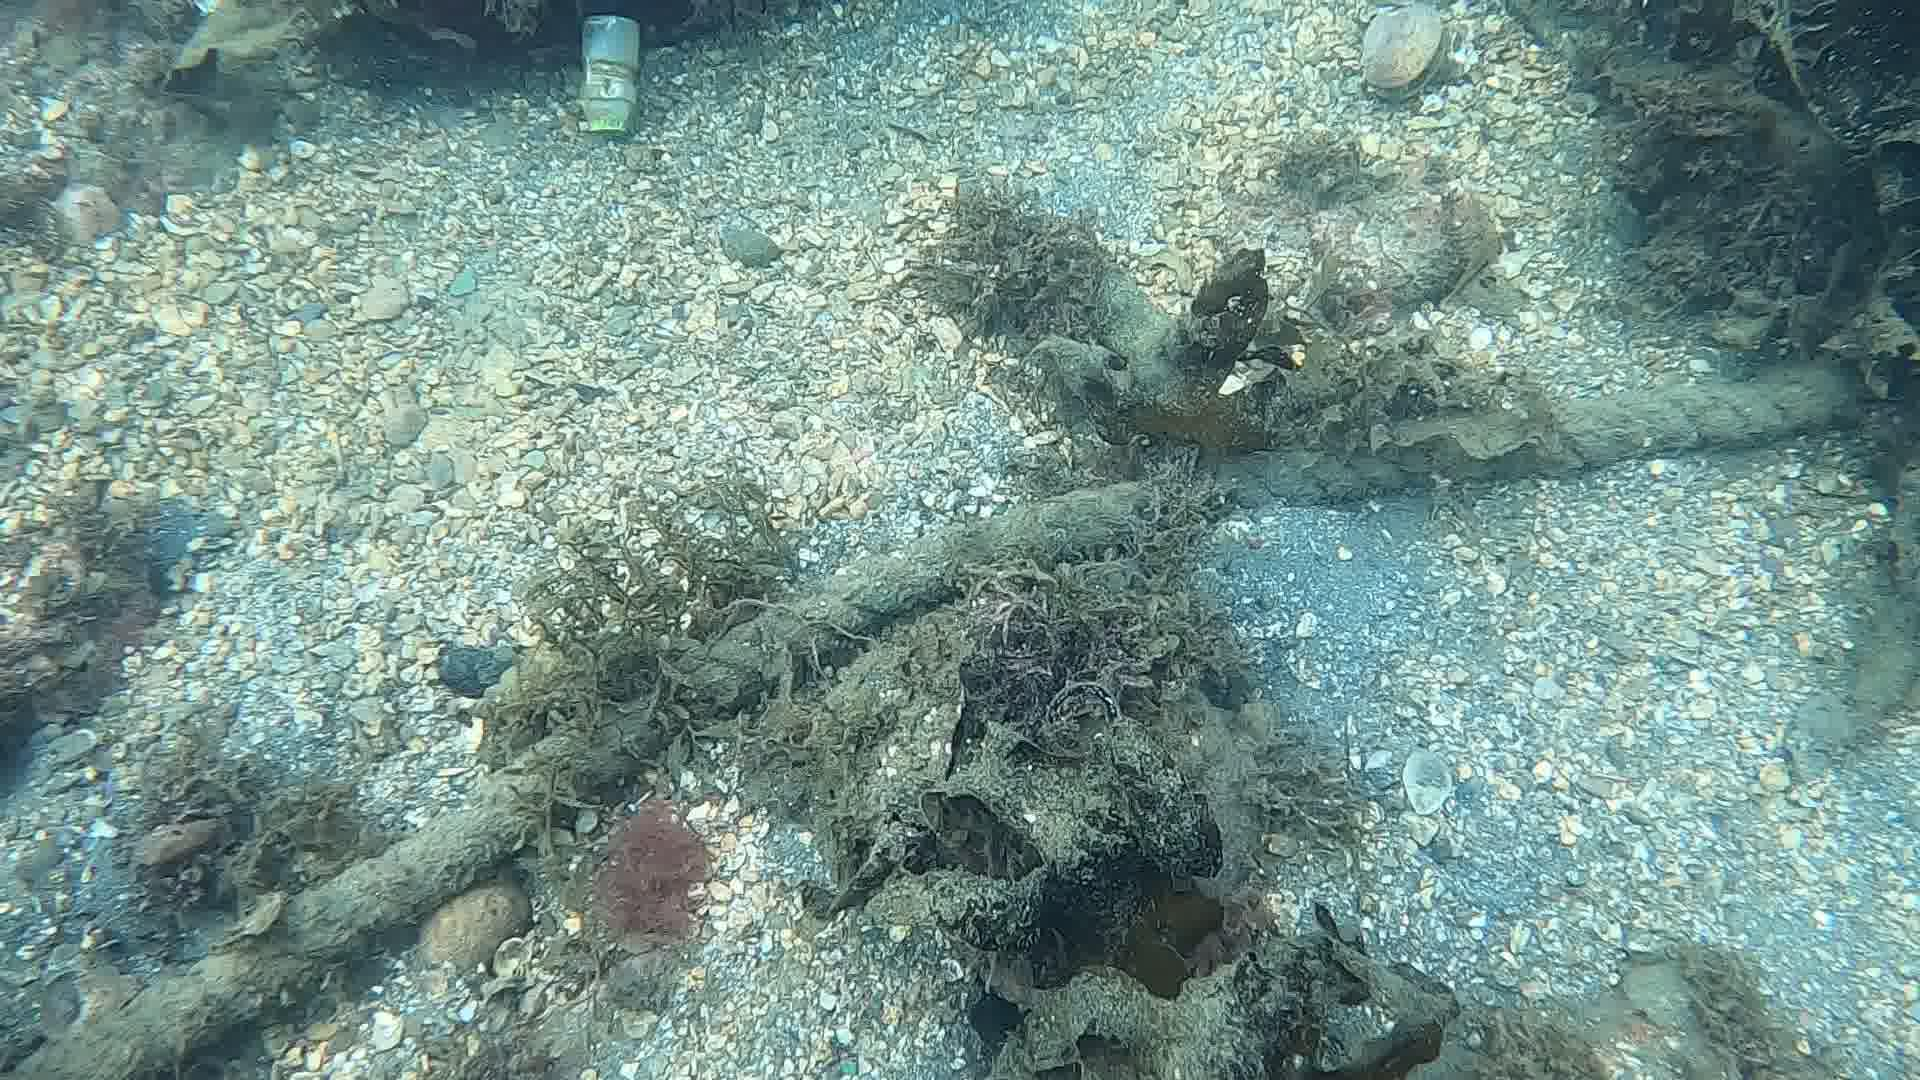rope: (0, 360, 1844, 1080)
